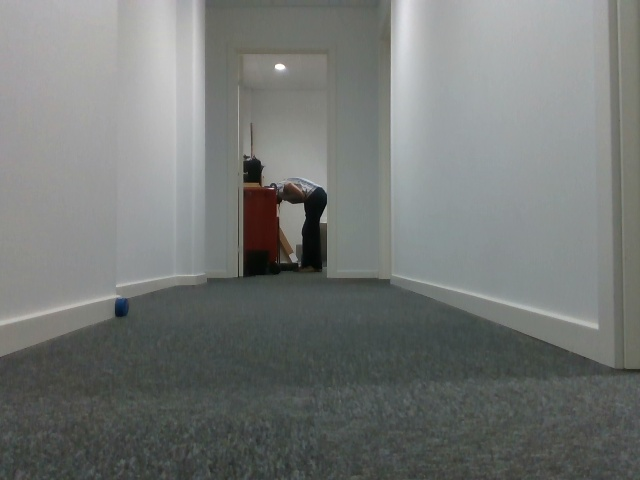alfa: (114, 295, 132, 319)
